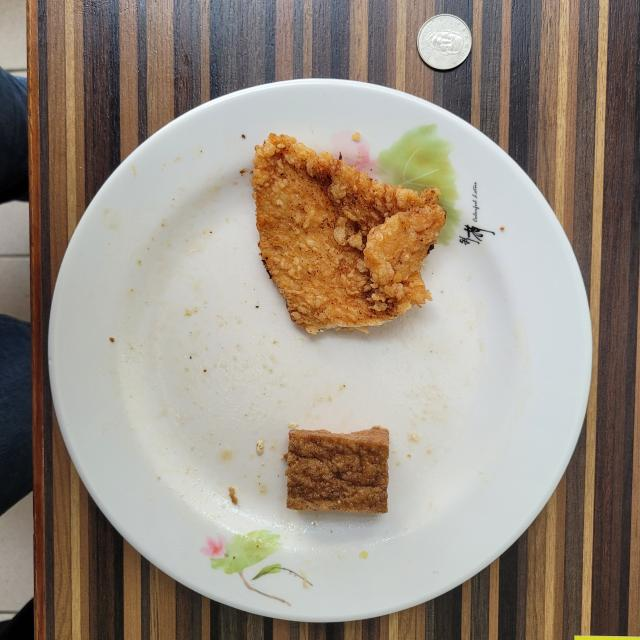coin: (418, 14, 471, 70)
egg tofu: (285, 426, 389, 514)
fried chicken cutlet: (251, 134, 446, 334)
